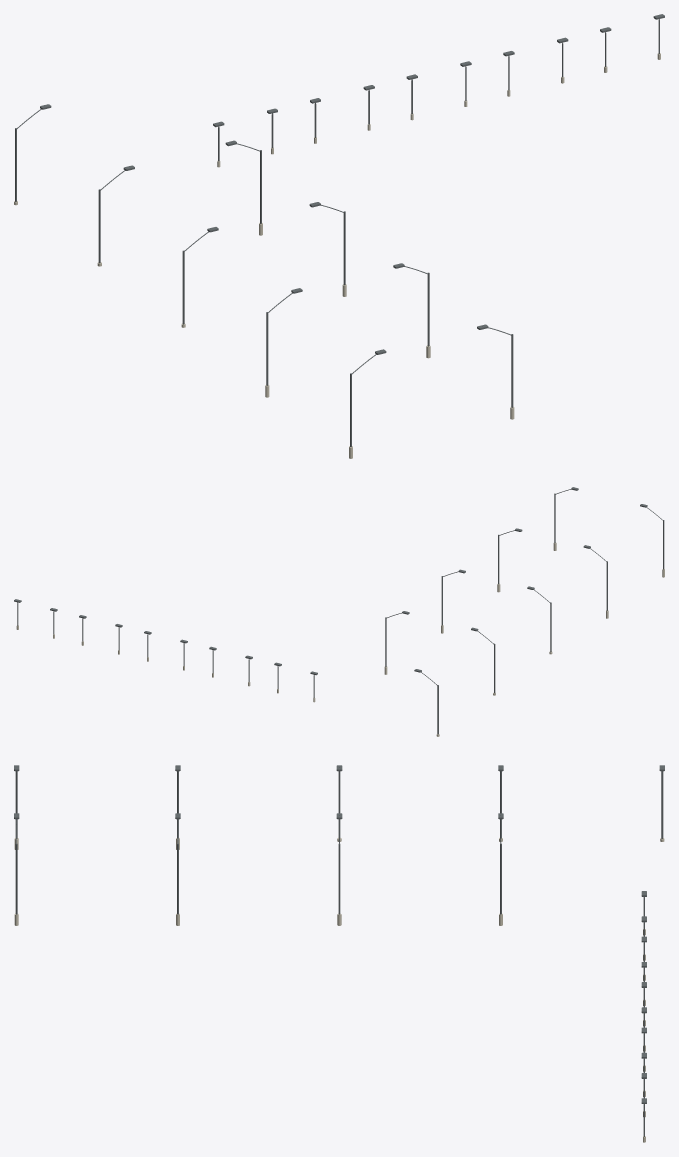
3 views of the same model, one above another, from view 1: azimuth 30°, elevation 25°; view 2: azimuth 150°, elevation 25°; view 3: azimuth 270°, elevation 25° (orthographic). The views are drawn at different scales.
Parts seen in each view (by area): view 1: buildings_s_-11_4_Dark_Metal, buildings_s_-11_4_Warm_Limestone; view 2: buildings_s_-11_4_Dark_Metal; view 3: buildings_s_-11_4_Dark_Metal.
Boxes of the visible parts, left/top/right/bottom form: buildings_s_-11_4_Dark_Metal: left=15, top=14, right=664, bottom=446; buildings_s_-11_4_Warm_Limestone: left=14, top=53, right=660, bottom=458; buildings_s_-11_4_Dark_Metal: left=14, top=487, right=664, bottom=734; buildings_s_-11_4_Dark_Metal: left=14, top=765, right=664, bottom=1136.
Size of the model in its own units: 119 by 17.75 by 109.
